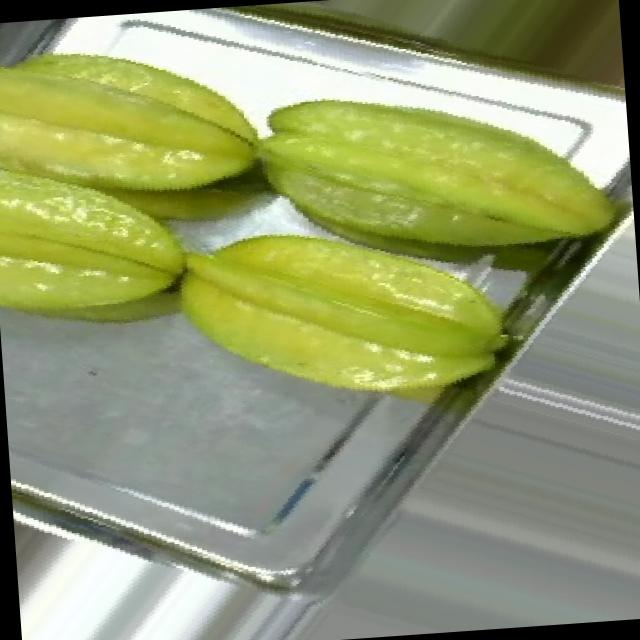fruit: (212, 53, 638, 408), (140, 178, 540, 476), (0, 5, 291, 390)
